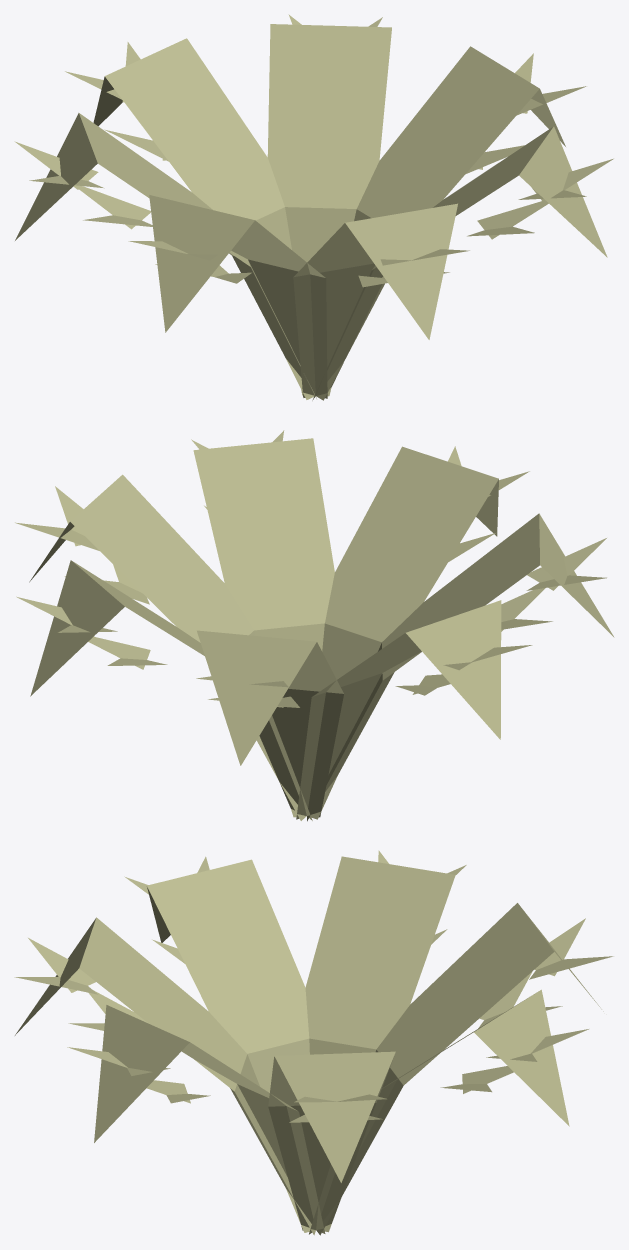
The model's file is ember_scrub.glb.
3 renders of one model, top to bottom at view 1: azimuth 30°, elevation 25°; view 2: azimuth 150°, elevation 25°; view 3: azimuth 270°, elevation 25°, orthographic.
Parts seen in each view (by area): view 1: ember_scrub; view 2: ember_scrub; view 3: ember_scrub.
Part boxes in pixels (<box>): ember_scrub: <box>14,14,613,400</box>; ember_scrub: <box>15,430,614,821</box>; ember_scrub: <box>14,850,613,1235</box>.
Size of the model in its own units: 0.8843 by 0.445 by 0.8861.
